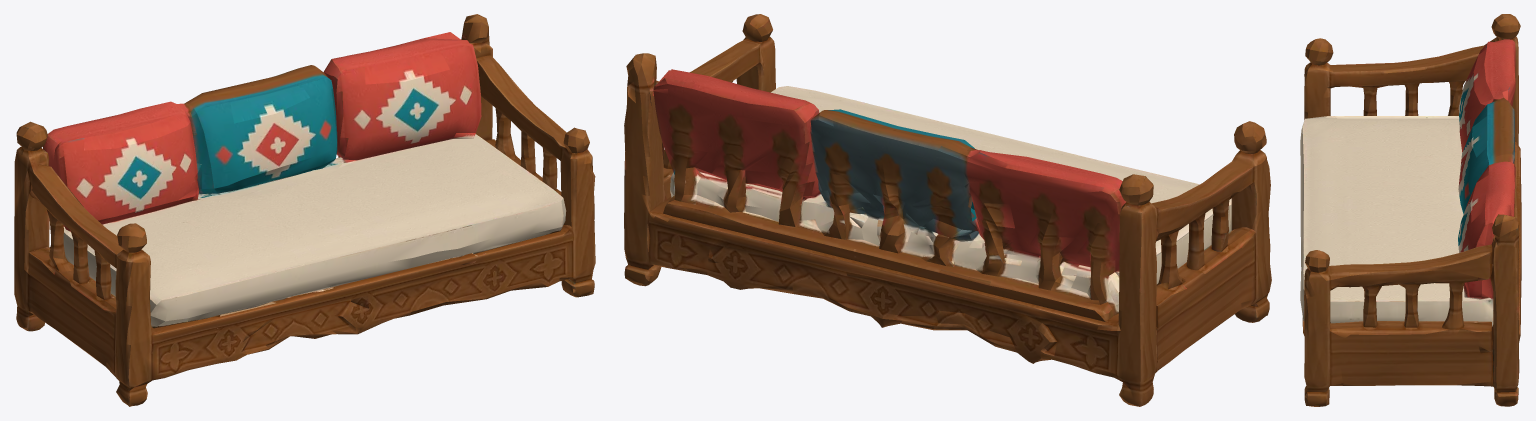
Rendered from sedir.glb.
3 views of the same model, side by side, from view 1: azimuth 30°, elevation 25°; view 2: azimuth 150°, elevation 25°; view 3: azimuth 270°, elevation 25° (orthographic). The views are drawn at different scales.
Visible parts, largest first — view 1: Mesh0; view 2: Mesh0; view 3: Mesh0.
Boxes of the visible parts, x1,y1,x2,y2 form: Mesh0: [14, 14, 595, 406]; Mesh0: [624, 14, 1271, 406]; Mesh0: [1300, 14, 1521, 406].
Size of the model in its own units: 1.89 by 0.7934 by 0.837.
1 material, 1 textured.
